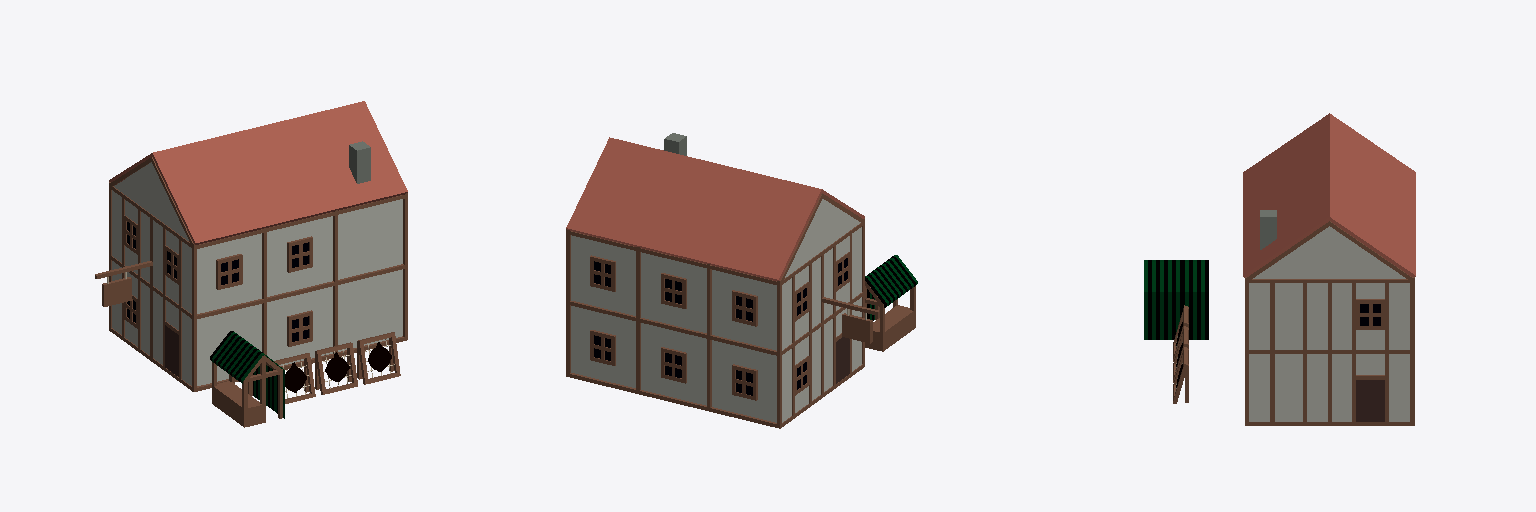
Rendered from timberframedtanner_black_green.obj.
3 views of the same model, side by side, from view 1: azimuth 30°, elevation 25°; view 2: azimuth 150°, elevation 25°; view 3: azimuth 270°, elevation 25° (orthographic).
Visible parts, largest first — view 1: Cube.005, Cube.007_Cube.011, Cylinder.001_Cylinder.008, Cylinder.003_Cylinder.001, Cylinder.004_Cylinder.009, Cube.011_Cube.015, Cube.018_Cube.016, Cube.056_Cube.081, Cube.001_Cube.058, Cube.013_Cube.080, Cube.006_Cube.010, Cube.026_Cube.019 (+7 smaller); view 2: Cube.005, Cube.007_Cube.011, Cube.023_Cube.026, Cube.022_Cube.025, Cube.021_Cube.024, Cube.015_Cube.020, Cube.019_Cube.022, Cube.017_Cube.021, Cube.014_Cube.018, Cube.008, Cube.020_Cube.023, Cube.073_Cube.078 (+6 smaller); view 3: Cube.005, Cube.007_Cube.011, Cube.147_Cube.153, Cube.003, Cube.033, Cube.027, Cube.047_Cube.049, Cube.016_Cube.013, Cube.031, Cube.006_Cube.010, Cube.032, Cylinder.001_Cylinder.008 (+5 smaller).
Boxes of the visible parts, box(x1,y1,x2,y2) form: Cube.005: box(112, 162, 402, 385); Cube.007_Cube.011: box(109, 101, 407, 244); Cylinder.001_Cylinder.008: box(357, 332, 400, 384); Cylinder.003_Cylinder.001: box(315, 342, 357, 394); Cylinder.004_Cylinder.009: box(274, 353, 315, 403); Cube.011_Cube.015: box(195, 264, 406, 319); Cube.018_Cube.016: box(195, 195, 406, 249); Cube.056_Cube.081: box(216, 254, 242, 289); Cube.001_Cube.058: box(287, 310, 312, 346); Cube.013_Cube.080: box(287, 236, 312, 272); Cube.006_Cube.010: box(349, 141, 370, 183); Cube.026_Cube.019: box(192, 243, 196, 391); Cube.005: box(571, 199, 861, 422); Cube.007_Cube.011: box(566, 137, 864, 280); Cube.023_Cube.026: box(567, 373, 779, 427); Cube.022_Cube.025: box(567, 301, 776, 355); Cube.021_Cube.024: box(567, 231, 777, 284); Cube.015_Cube.020: box(732, 290, 757, 326); Cube.019_Cube.022: box(661, 347, 686, 383); Cube.017_Cube.021: box(590, 330, 615, 365); Cube.014_Cube.018: box(661, 273, 686, 308); Cube.008: box(590, 255, 615, 291); Cube.020_Cube.023: box(732, 364, 757, 400); Cube.073_Cube.078: box(842, 313, 872, 343); Cube.005: box(1249, 226, 1409, 421); Cube.007_Cube.011: box(1243, 113, 1415, 277); Cube.147_Cube.153: box(1144, 292, 1208, 339); Cube.003: box(1356, 380, 1384, 421); Cube.033: box(1356, 299, 1384, 329); Cube.027: box(1410, 277, 1414, 425); Cube.047_Cube.049: box(1270, 279, 1274, 423); Cube.016_Cube.013: box(1248, 350, 1410, 353); Cube.031: box(1248, 422, 1410, 425); Cube.006_Cube.010: box(1260, 210, 1276, 249); Cube.032: box(1248, 279, 1410, 282); Cylinder.001_Cylinder.008: box(1173, 347, 1188, 403).
Bounding box in the file's own units: 15.3 × 11.25 × 13.34.